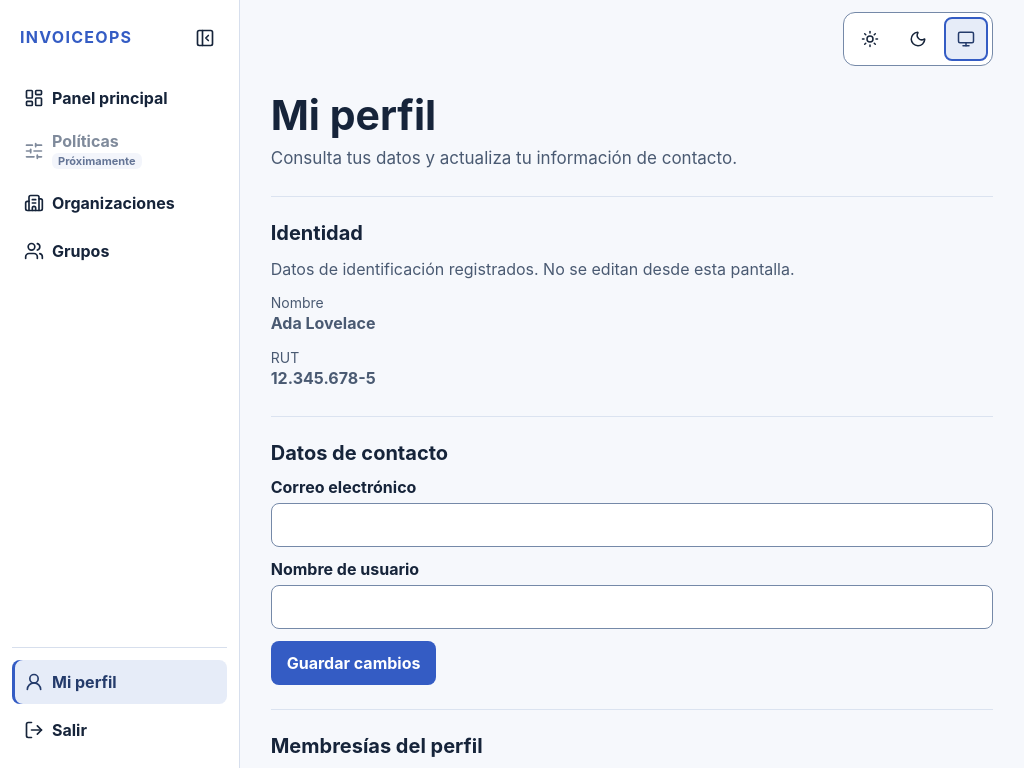
Test: profile save errors (CR-310) › names the email when the server refuses it with 400
Type "ada@example" into the field labelled "Correo electrónico".
click(632, 525); type("ada@example")  # box left=271, top=503, right=993, bottom=547
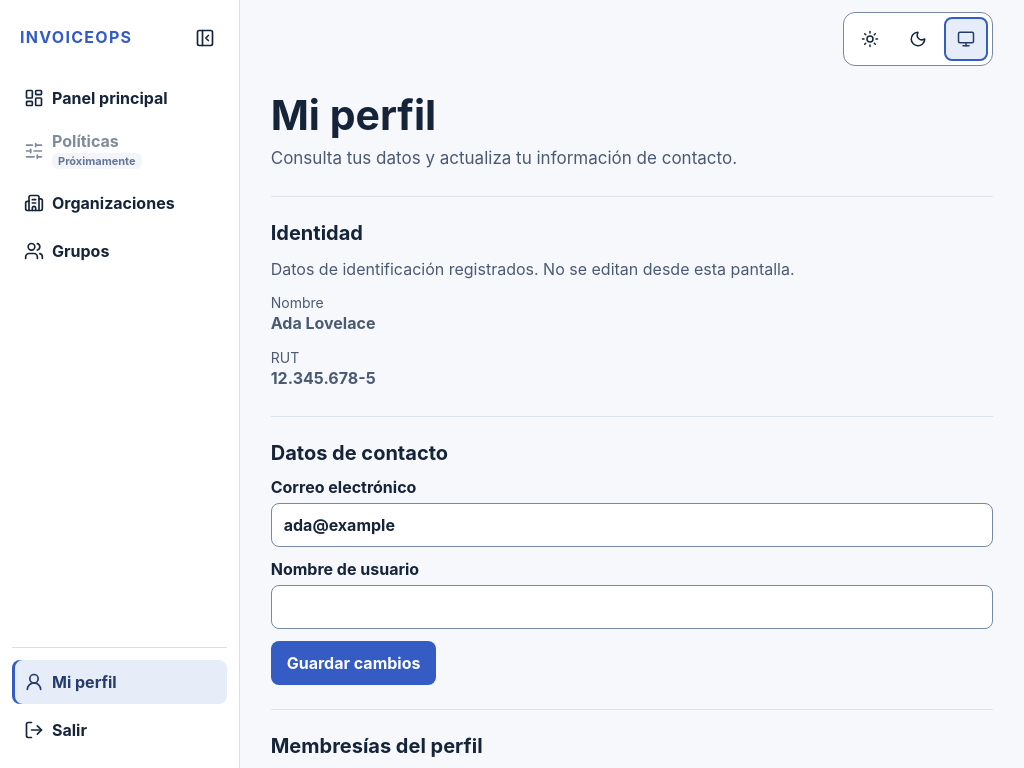
Click the button "Guardar cambios".
click(354, 663)  # box left=271, top=641, right=436, bottom=685
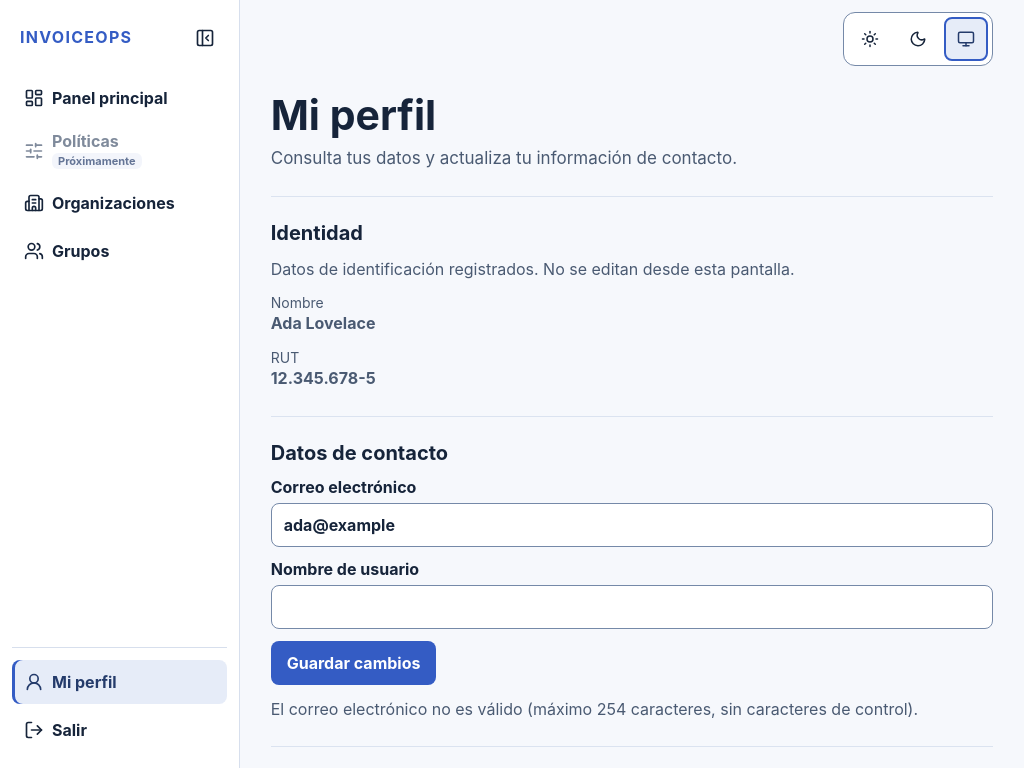
Check: the message shows "El correo electrónico no es válido (máximo 254 caracteres, sin caracteres de control).", box left=271, top=699, right=918, bottom=719
